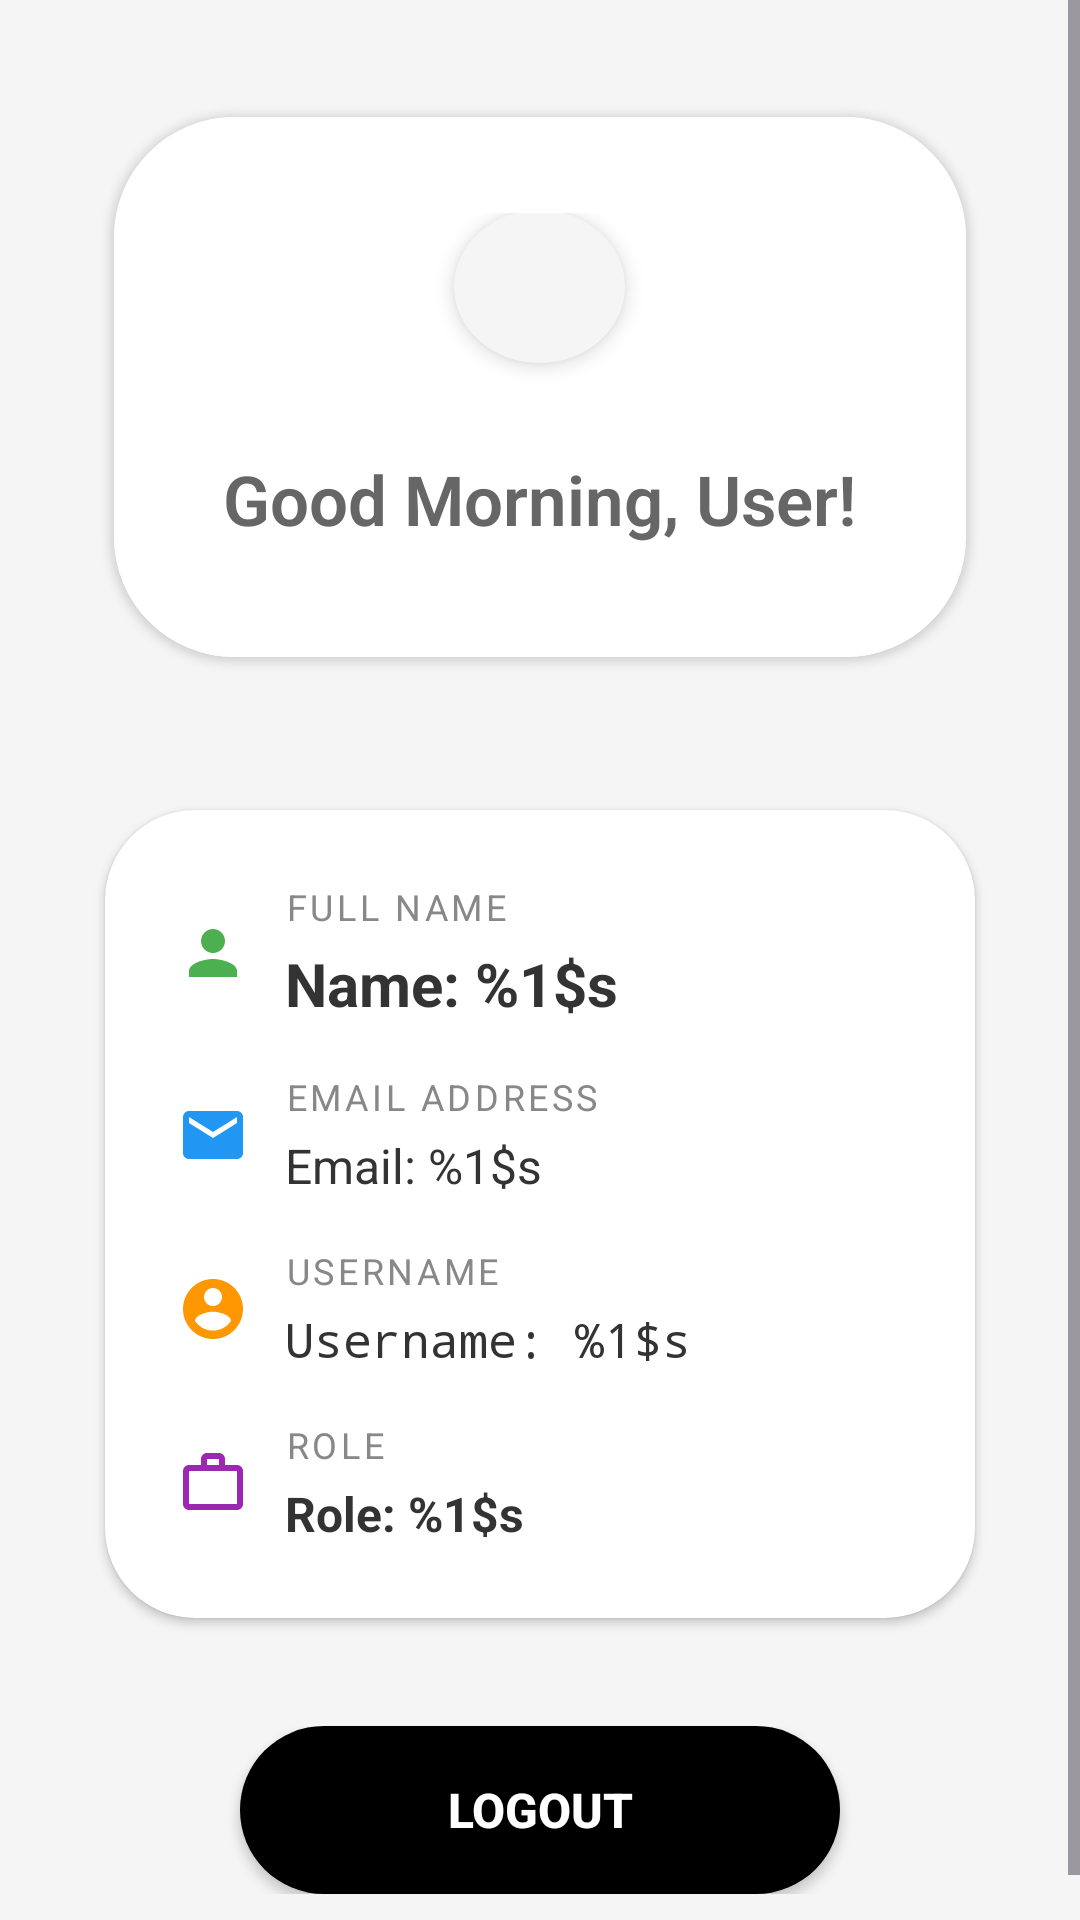

Icon click points for this 1080x1920 phone screenshot, format [x,y]:
account circle: [213,1309]
emaill: [213,1135]
person: [213,953]
work: [213,1481]
